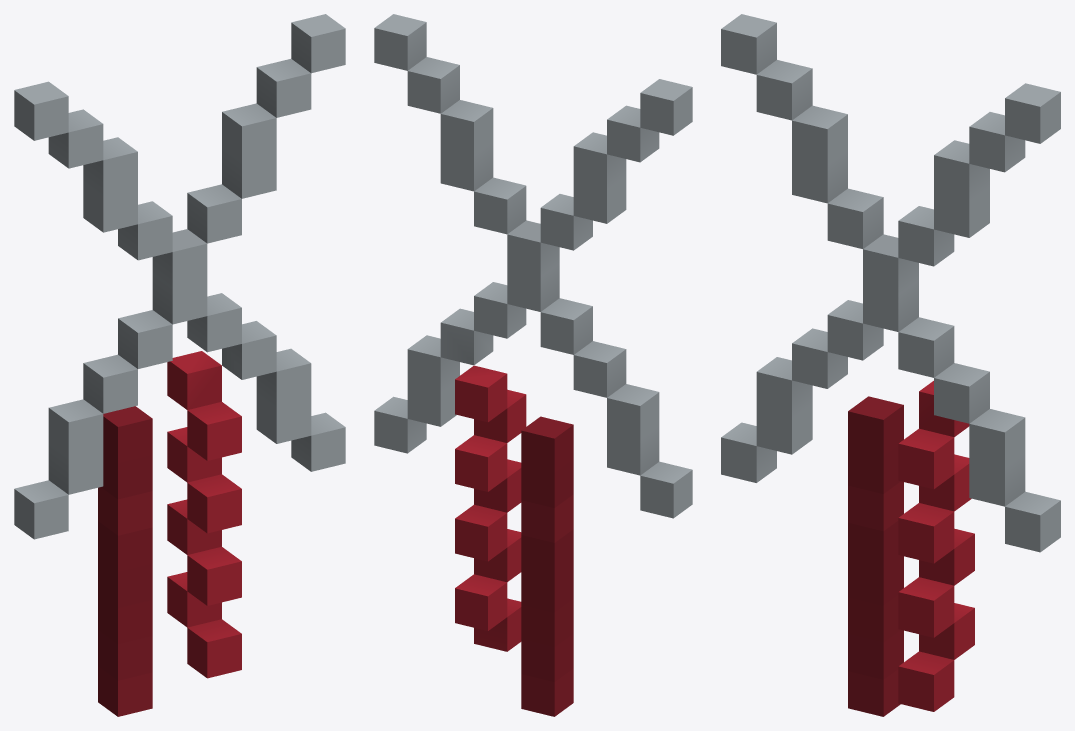
File: voc_lame.glb
3 views of the same model, side by side, from view 1: azimuth 30°, elevation 25°; view 2: azimuth 150°, elevation 25°; view 3: azimuth 330°, elevation 25° (orthographic). The views are drawn at different scales.
Visible parts, largest first — view 1: voc_lame_body; view 2: voc_lame_body; view 3: voc_lame_body.
Part boxes in pixels (x1,y1,x2,y2): voc_lame_body: (14,14,345,716); voc_lame_body: (374,14,692,716); voc_lame_body: (721,14,1060,716).
Bounding box in the file's own units: 0.45 × 0.9 × 0.1.
